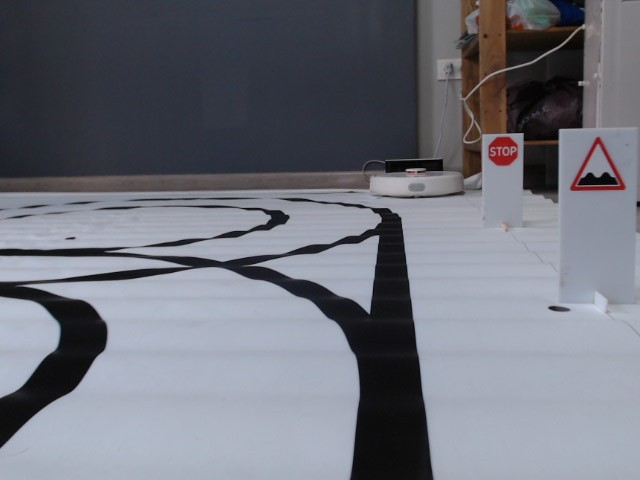Nerov: (569, 135, 627, 192)
Stop: (487, 136, 519, 167)
